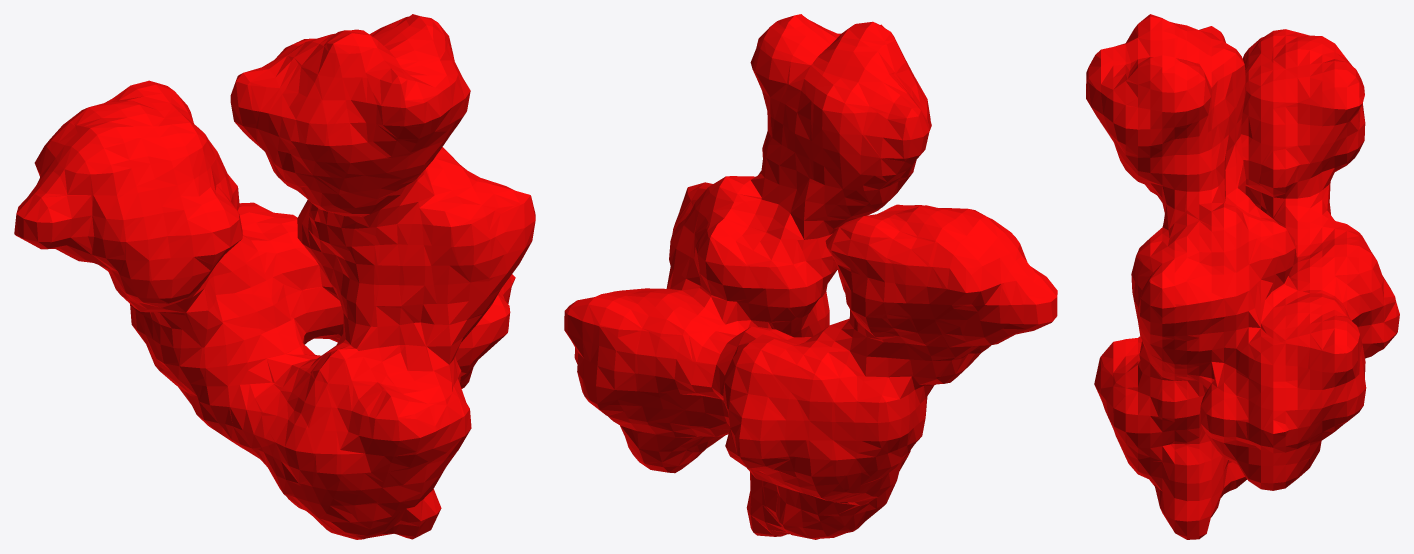
File: hybD_coarse.dae
The picture shows the model from 3 angles, left to right: view 1: azimuth 30°, elevation 25°; view 2: azimuth 150°, elevation 25°; view 3: azimuth 270°, elevation 25°; orthographic projection. The views are drawn at different scales.
Parts seen in each view (by area): view 1: hybD; view 2: hybD; view 3: hybD.
Part boxes in pixels (x1,y1,x2,y2): hybD: [14, 14, 535, 539]; hybD: [564, 14, 1057, 539]; hybD: [1086, 14, 1399, 539].
Bounding box in the file's own units: 117 × 121 × 71.5.
